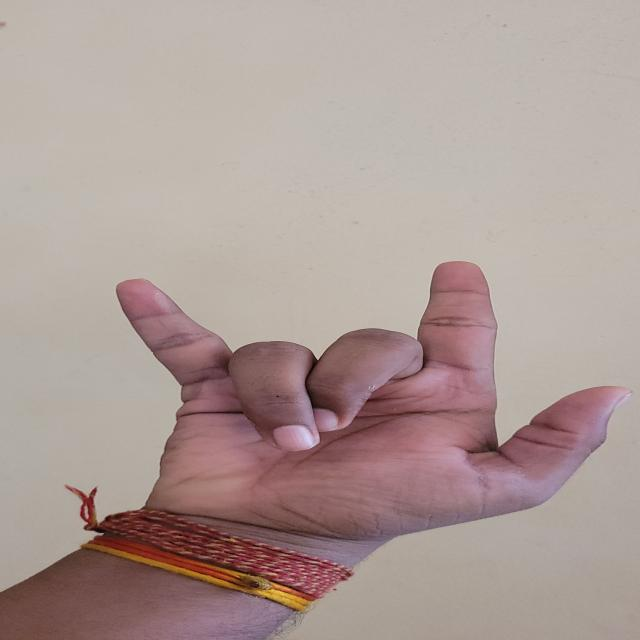i like you: (50, 231, 640, 585)
